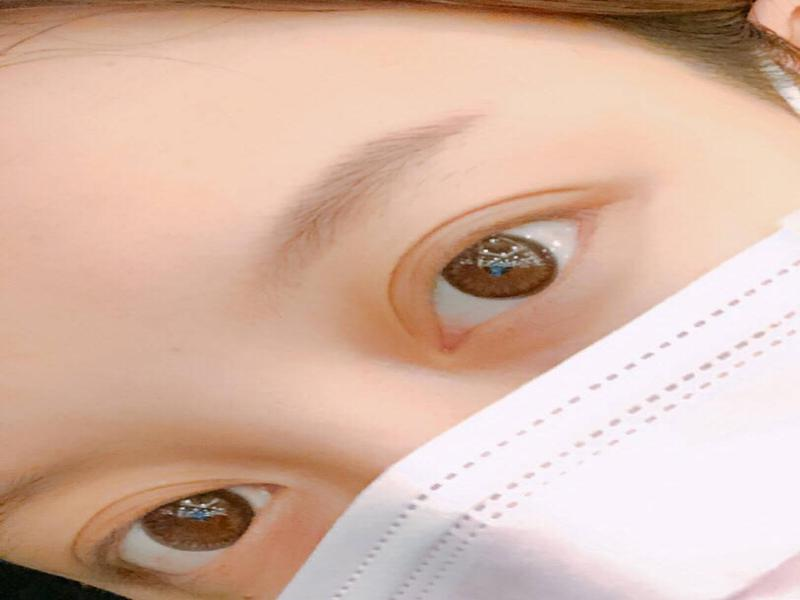with_mask: (1, 1, 797, 600)
